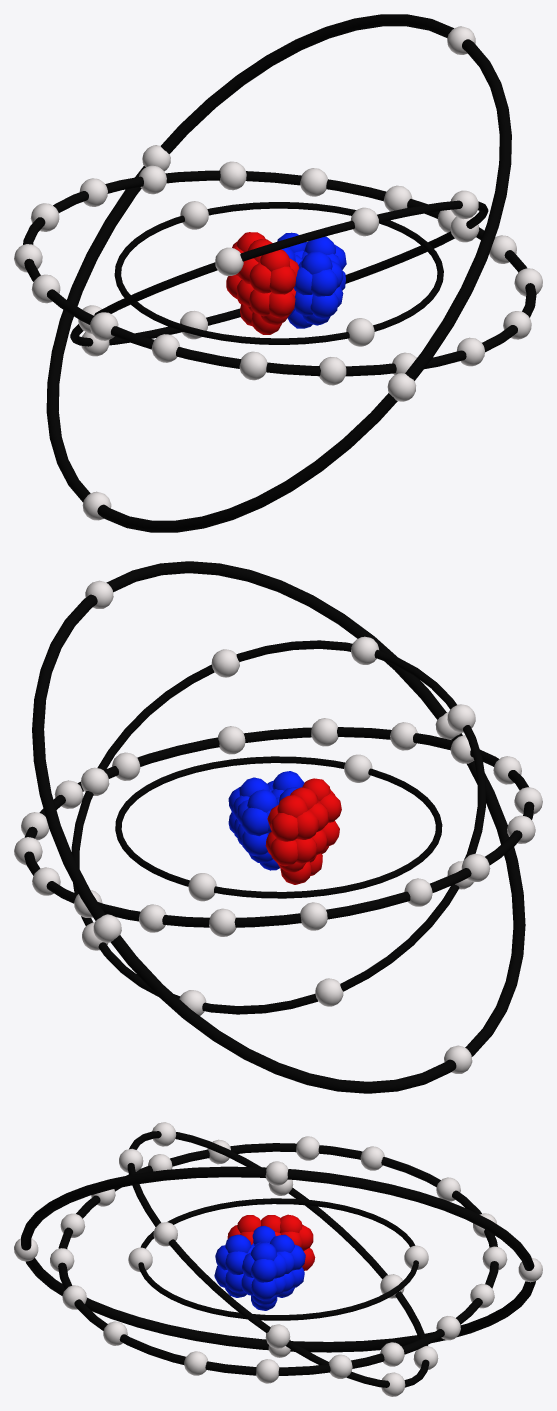
File: 32 Germanio.fbx
3 renders of one model, top to bottom at view 1: azimuth 30°, elevation 25°; view 2: azimuth 150°, elevation 25°; view 3: azimuth 270°, elevation 25°, orthographic. The views are drawn at different scales.
Visible parts, largest first — view 1: Orbita.004, Orbita.003, Orbita.002, Orbita.001, Estructura, Sphere.048, Electron.009, Electron.012, Electron, Electron.015, Electron.024, Electron.001 (+6 smaller); view 2: Orbita.004, Orbita.002, Orbita.003, Estructura, Orbita.001, Sphere.048, Electron.006, Electron.014, Electron.001, Electron.017, Electron.010, Electron.021 (+4 smaller); view 3: Orbita.004, Orbita.003, Sphere.048, Orbita.002, Orbita.001, Estructura, Electron.030, Electron.029, Electron.008, Electron.016, Electron.022, Electron.031 (+20 smaller).
Part boxes in pixels (x1,y1,x2,y2): Orbita.004: [46, 14, 511, 532]; Orbita.003: [23, 170, 536, 376]; Orbita.002: [70, 200, 488, 346]; Orbita.001: [114, 202, 443, 344]; Estructura: [226, 232, 299, 334]; Sphere.048: [277, 232, 346, 328]; Electron.009: [215, 247, 243, 276]; Electron.012: [239, 351, 267, 380]; Electron: [346, 318, 374, 346]; Electron.015: [300, 168, 327, 196]; Electron.024: [219, 161, 246, 190]; Electron.001: [180, 201, 208, 229]; Orbita.004: [32, 561, 525, 1093]; Orbita.002: [71, 640, 485, 1014]; Orbita.003: [24, 727, 534, 927]; Estructura: [265, 778, 341, 884]; Orbita.001: [115, 756, 442, 898]; Sphere.048: [228, 771, 304, 870]; Electron.006: [315, 978, 343, 1006]; Electron.014: [300, 902, 327, 930]; Electron.001: [188, 873, 216, 901]; Electron.017: [218, 726, 245, 754]; Electron.010: [211, 649, 239, 677]; Electron.021: [311, 718, 338, 746]; Orbita.004: [21, 1166, 535, 1352]; Orbita.003: [58, 1143, 498, 1375]; Sphere.048: [214, 1225, 305, 1310]; Orbita.002: [127, 1131, 429, 1387]; Orbita.001: [138, 1198, 418, 1320]; Estructura: [227, 1214, 315, 1270]; Electron.030: [256, 1359, 279, 1383]; Electron.029: [296, 1136, 319, 1160]; Electron.008: [265, 1324, 290, 1348]; Electron.016: [328, 1354, 352, 1378]; Electron.022: [184, 1351, 207, 1375]; Electron.031: [265, 1161, 288, 1185].
Size of the model in its own units: 14.54 by 12.43 by 10.49.
